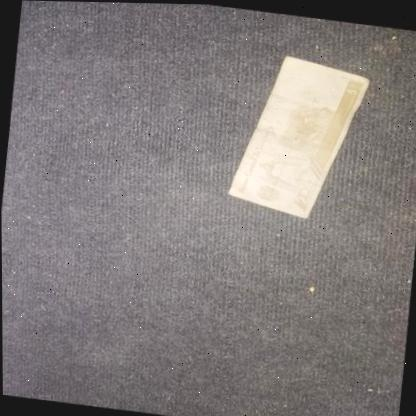five-back-vef: (225, 48, 370, 223)
